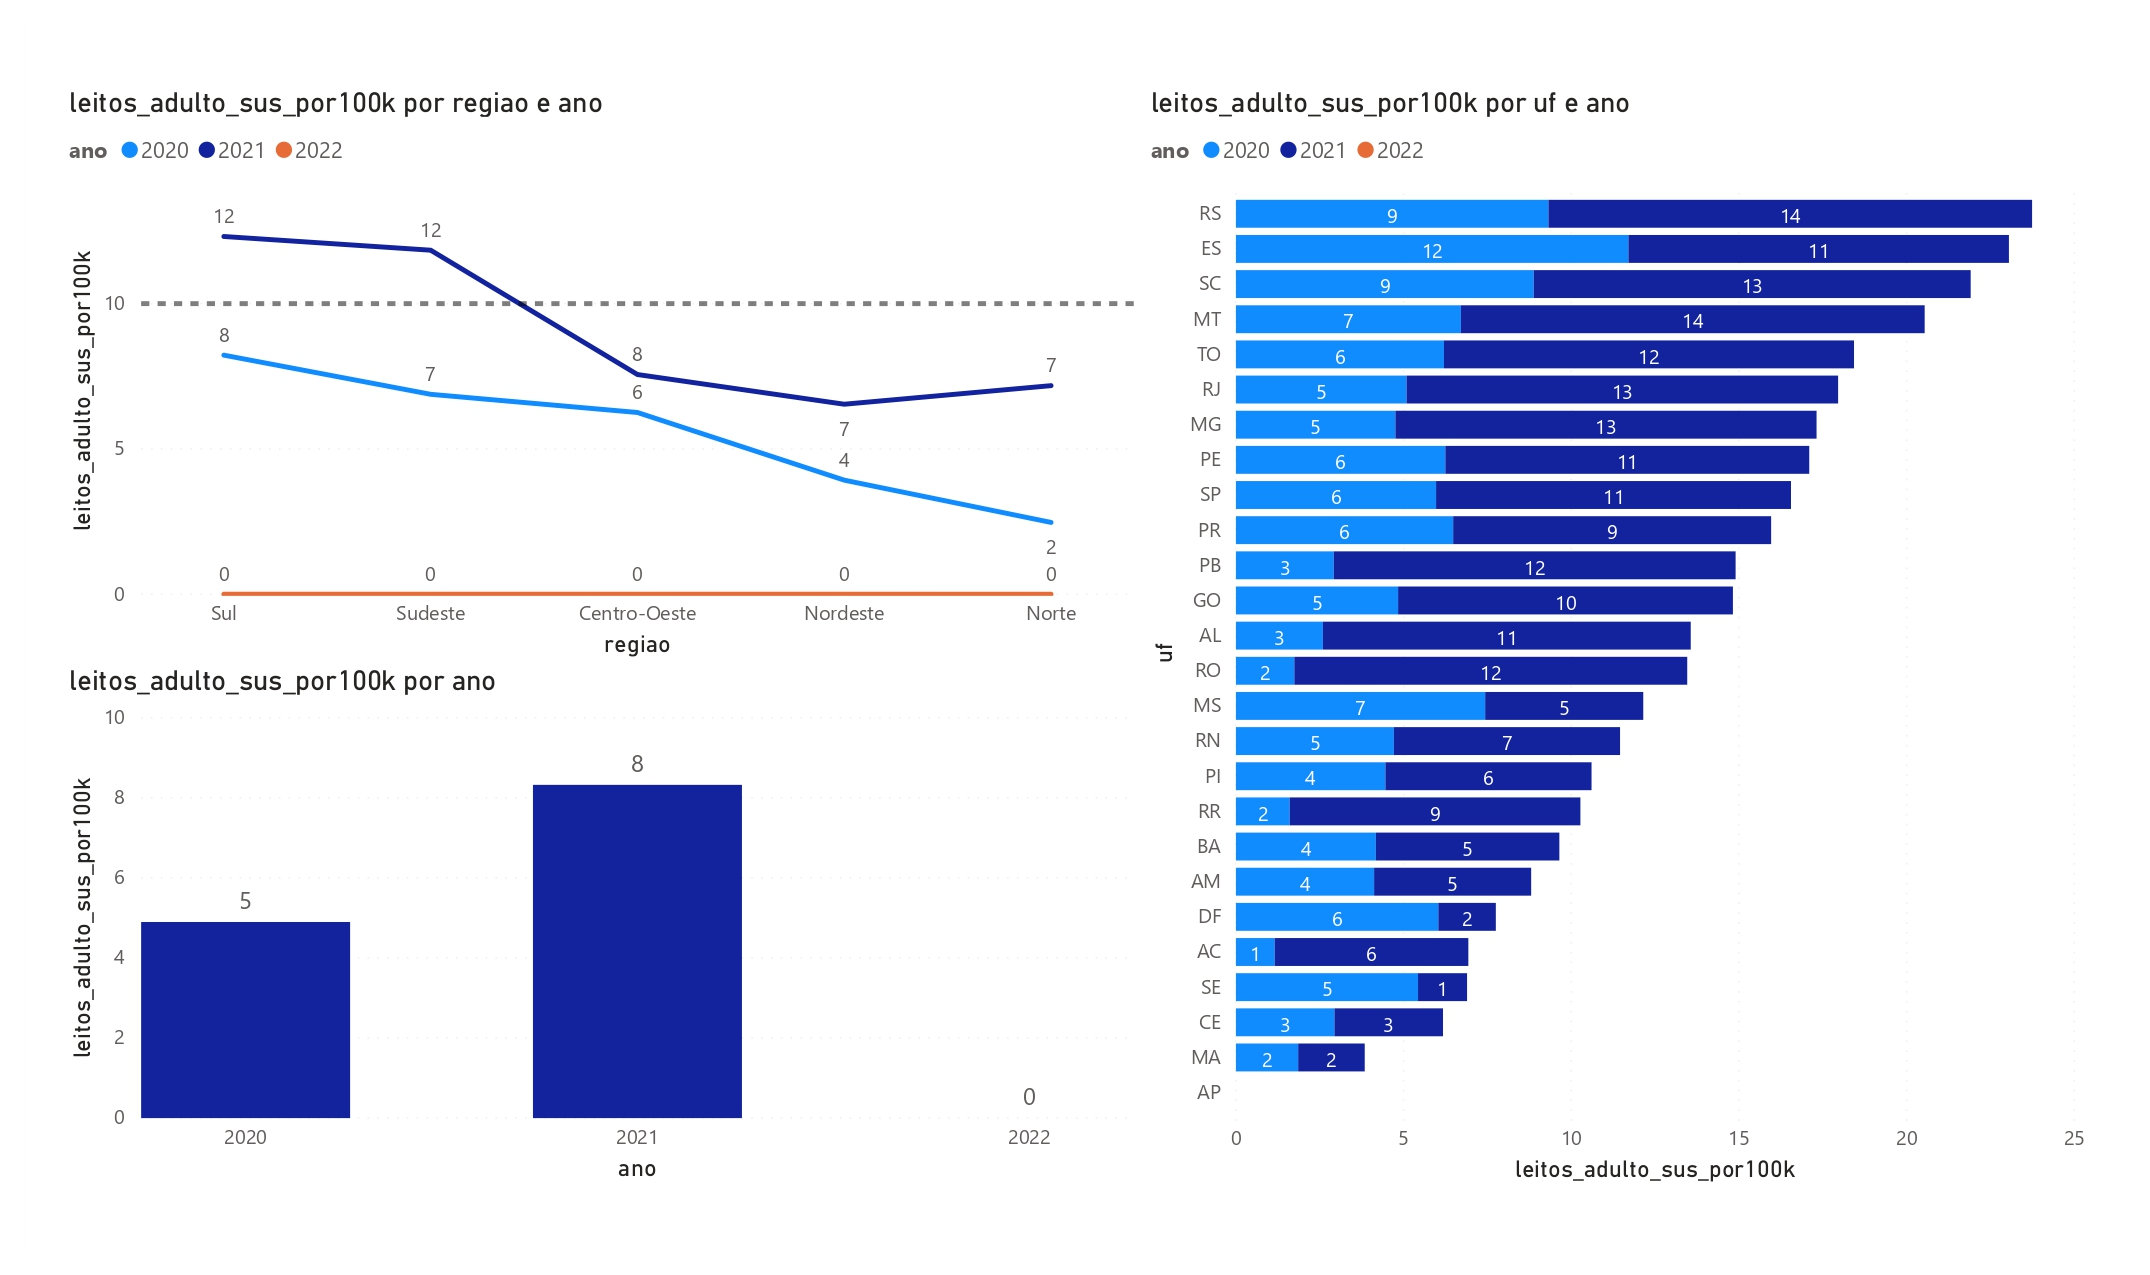

This screenshot's page, from the dashboard's own definition file:
{"tool":"powerbi","page":{"name":"Leitos UTI por 100K_SUS","canvas":[1280,720],"ordinal":6},"visuals":[{"type":"lineChart","fields":{"Category":["projetotcc dim_local.regiao"],"Y":["Avg(projetotcc fato_recursos.quant_leitos_adulto_sus_por100k)"],"Series":["projetotcc dim_tempo.ano"]},"box":[21,23,659,353],"z":3},{"type":"barChart","fields":{"Category":["projetotcc dim_local.uf"],"Y":["Avg(projetotcc fato_recursos.quant_leitos_adulto_sus_por100k)"],"Series":["projetotcc dim_tempo.ano"]},"box":[680.5,23.1,580.2,672.8],"z":1000},{"type":"clusteredColumnChart","fields":{"Category":["projetotcc dim_tempo.ano"],"Y":["Avg(projetotcc fato_recursos.quant_leitos_adulto_sus_por100k)"]},"box":[21.2,375.9,659.3,320],"z":2000}]}

Visuals, with their boxes on the page's 1280x720 design canvas (x1, y1, x2, y2). These are canvas units, not pixel positions in the 2150x1275 screenshot, which may show the page scaled, cropped or inside an application window:
lineChart - projetotcc dim_local.regiao x Avg(projetotcc fato_recursos.quant_leitos_adulto_sus_por100k): bbox=[21, 23, 680, 376]
barChart - projetotcc dim_local.uf x Avg(projetotcc fato_recursos.quant_leitos_adulto_sus_por100k): bbox=[680, 23, 1261, 696]
clusteredColumnChart - projetotcc dim_tempo.ano x Avg(projetotcc fato_recursos.quant_leitos_adulto_sus_por100k): bbox=[21, 376, 680, 696]
